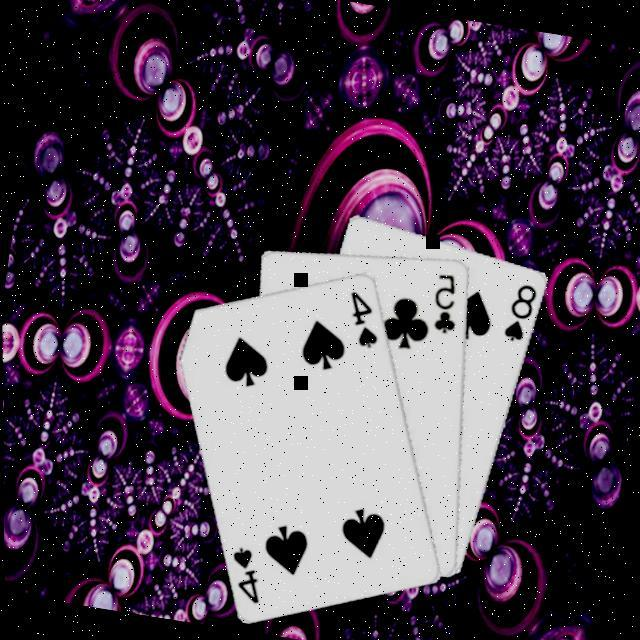4S: (222, 540, 272, 606), (340, 284, 389, 350)
5C: (428, 266, 468, 336)
8S: (501, 277, 542, 345)
